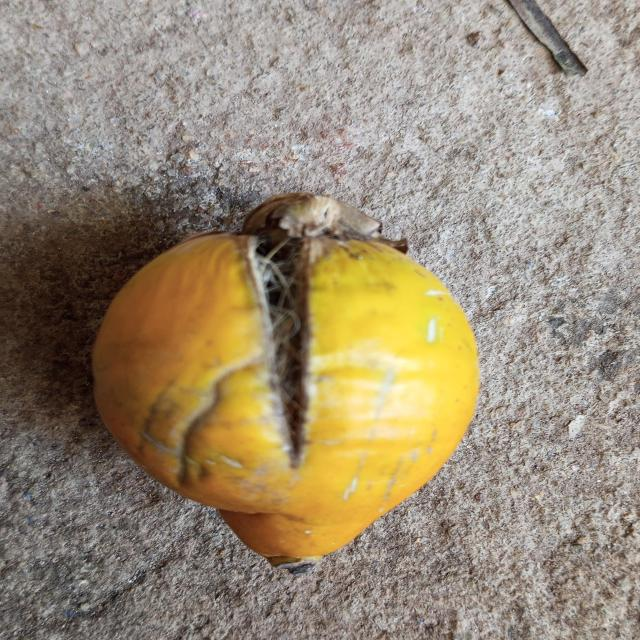damaged: (93, 192, 478, 570)
